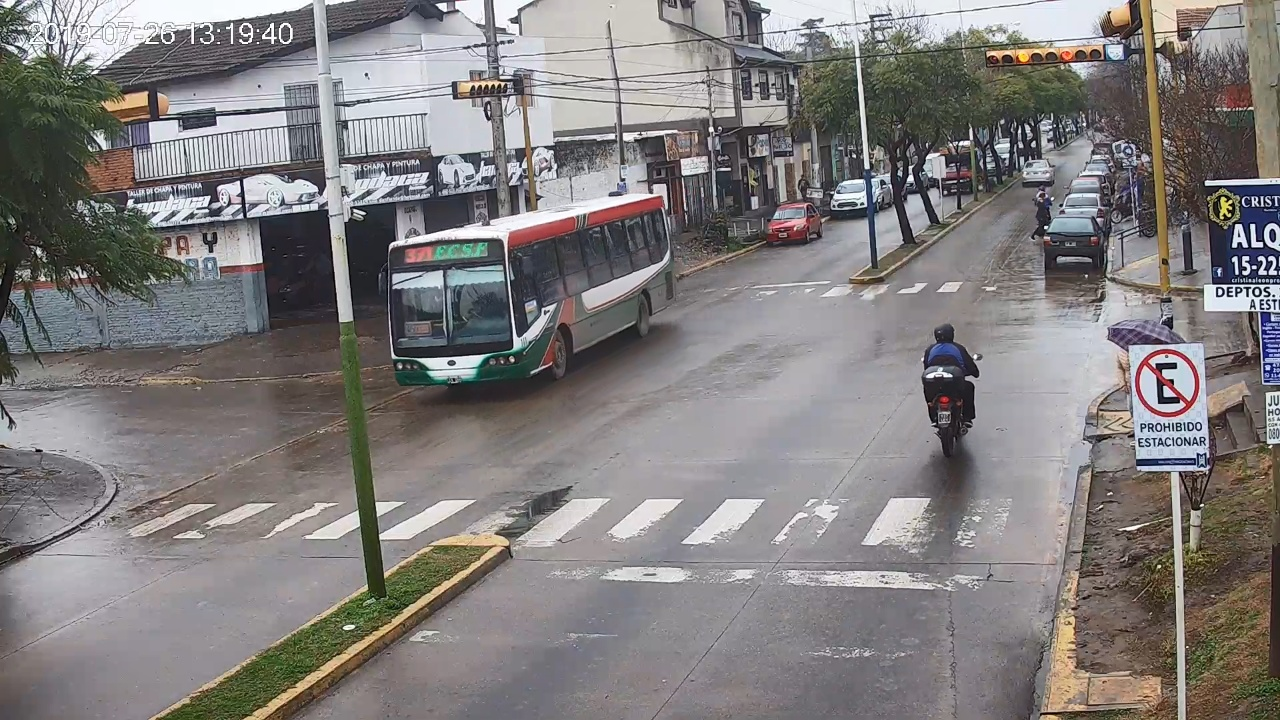front bus: (377, 193, 675, 387)
motorcycle: (922, 352, 983, 457)
traffic light: (1017, 47, 1102, 63)
